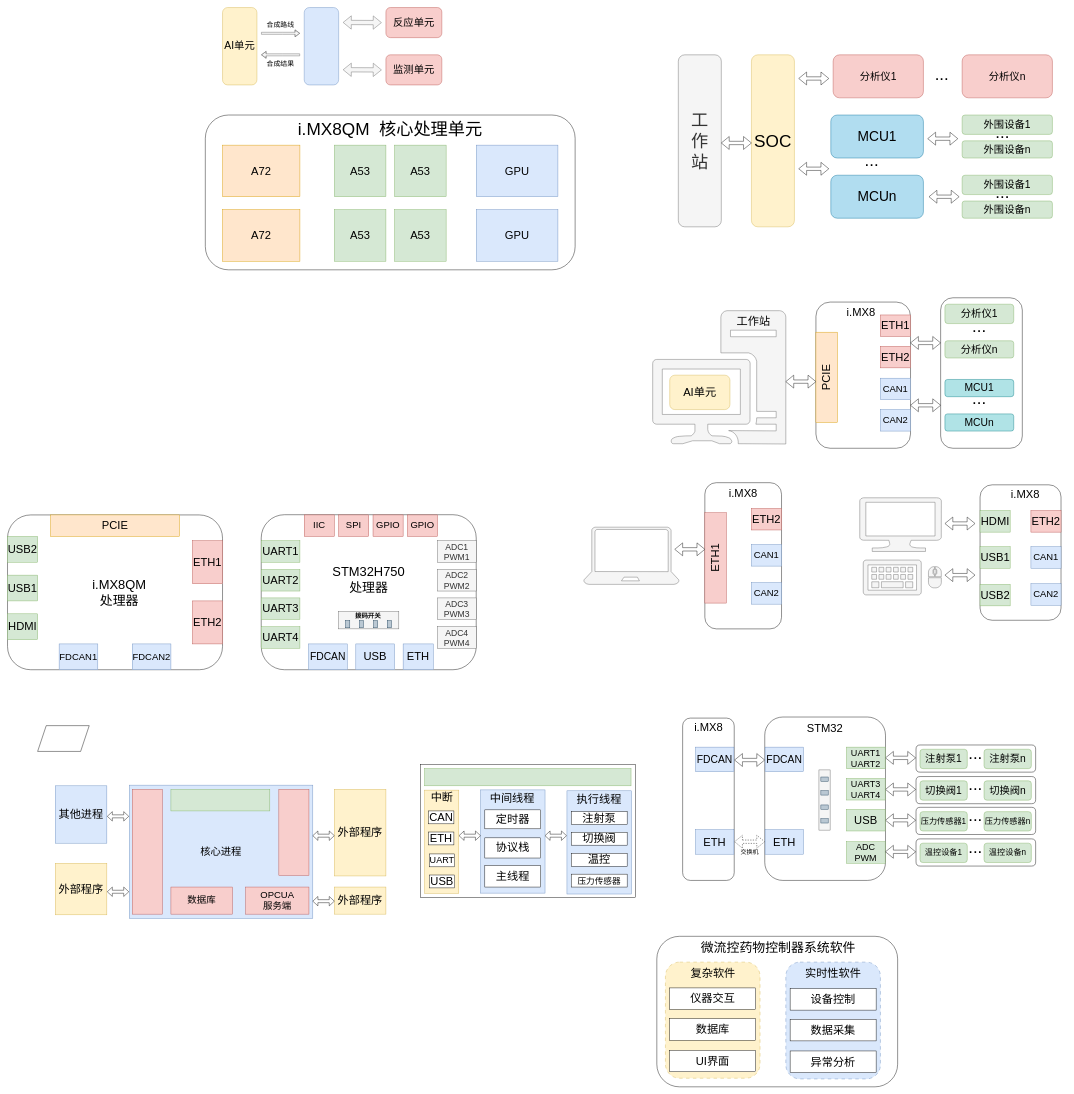
Some shapes in this 1074 by 1094 pixel diagram are drawn without their labels. The box of each missing label's shape, as (x1, y1, x2, y2) in pixels:
CAN socket: (278, 789, 309, 875)
ETH socket服务端: (132, 789, 162, 914)
共享数据结构: (170, 789, 270, 811)
控制器系统: (304, 7, 339, 85)
数据结构: (424, 768, 631, 786)
